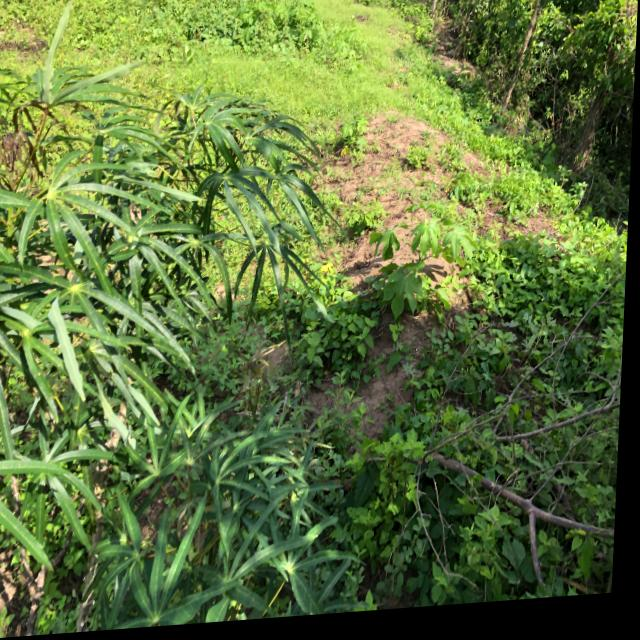Maleza: (423, 391, 636, 595), (463, 9, 631, 227), (129, 0, 490, 88), (486, 242, 632, 411), (332, 65, 492, 194), (348, 433, 495, 560), (0, 0, 157, 62)
Mosca: (116, 224, 136, 254), (30, 368, 47, 381), (227, 467, 235, 480)
